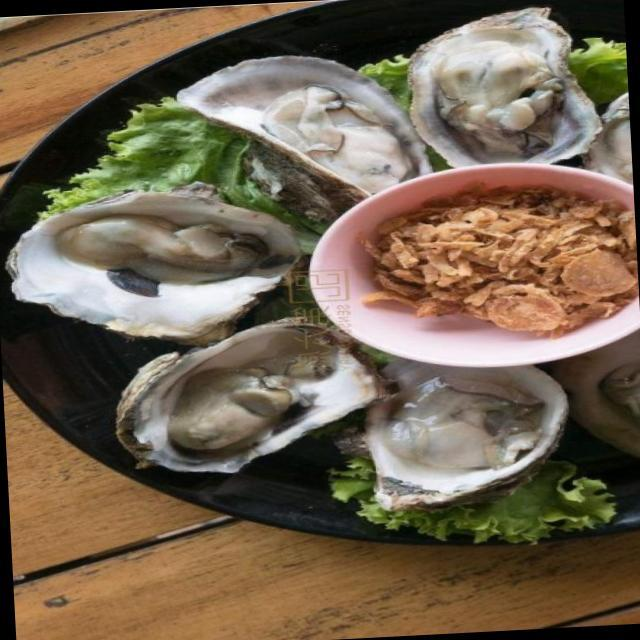Oyster-Open: (0, 179, 312, 351), (170, 44, 446, 235), (106, 310, 396, 480), (362, 344, 576, 514), (401, 1, 608, 174)
